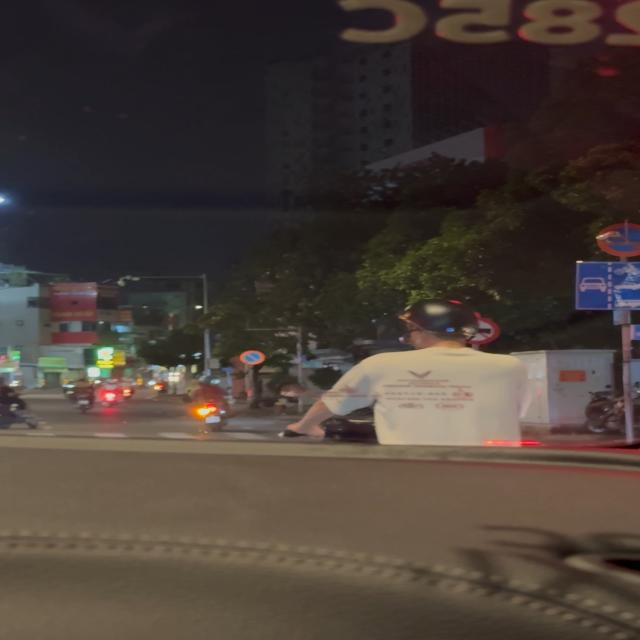Bien bao cam do xe: (239, 347, 267, 367)
